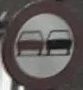No overtake: (6, 12, 76, 71)
